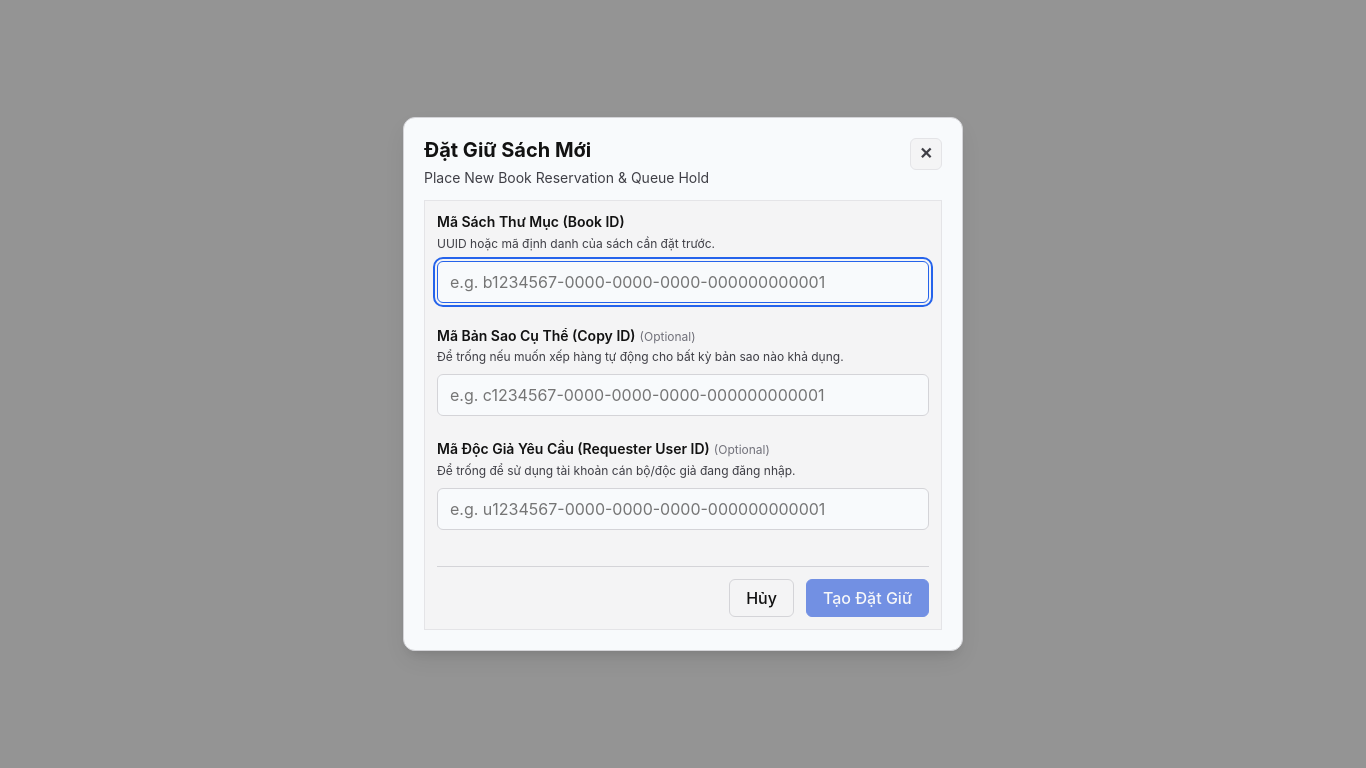
it: CreateReservationModal Component (M-05) › displays inline error alert if reservations.create rejects
This screenshot has width=1366, height=768.
Type "b-full" into the field labelled "Mã Sách Thư Mục (Book ID)".
click(683, 282); type("b-full")  # box [437,261,929,303]
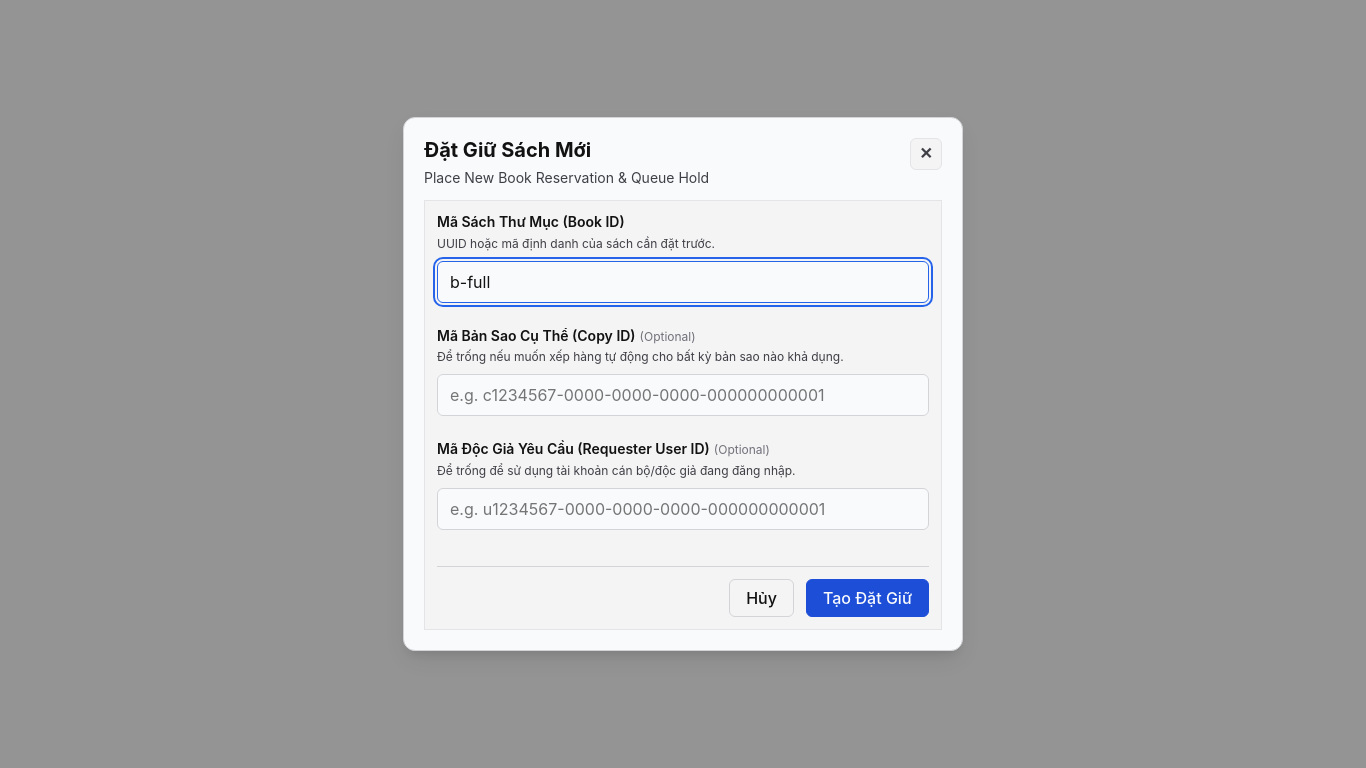
Click the button "Tạo Đặt Giữ".
click(867, 598)  # box [806,579,929,617]
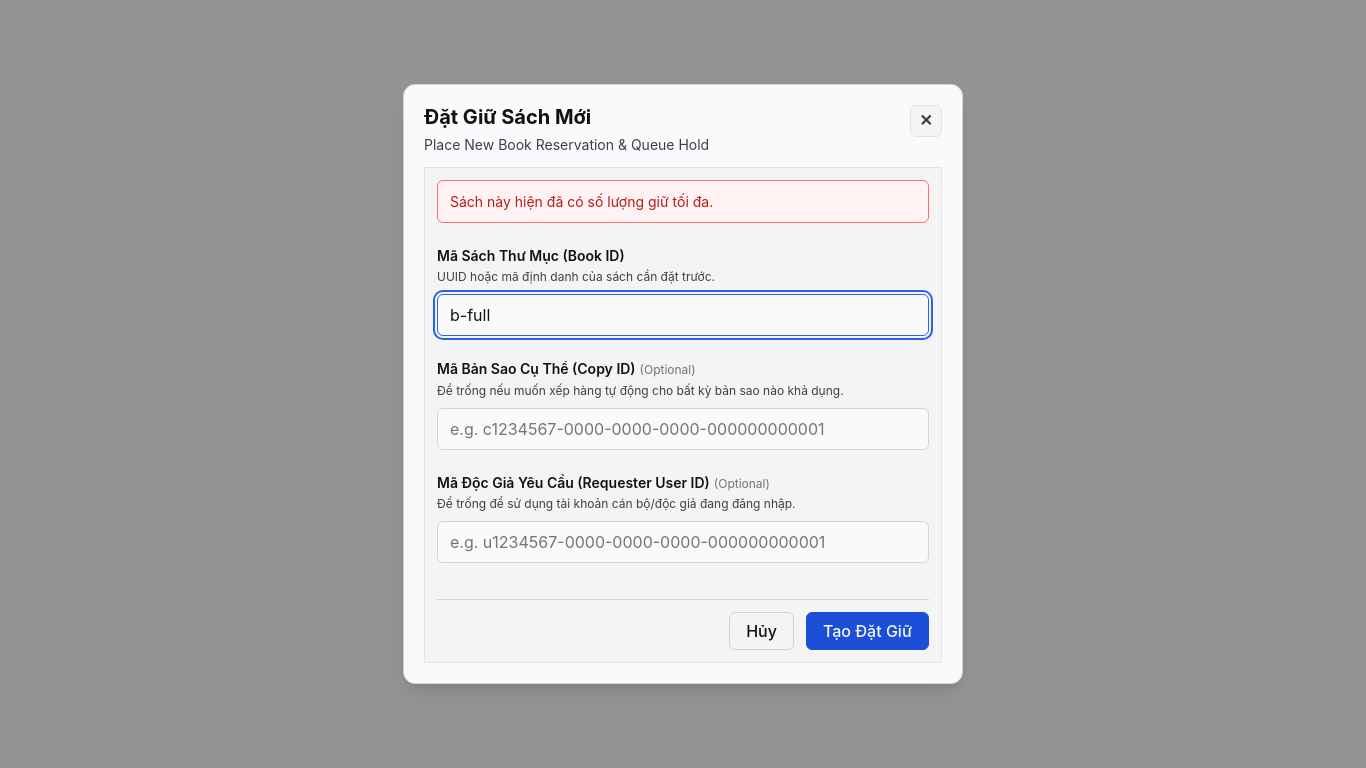
Expected: the message shows "số lượng giữ tối đa", [450,193,713,210]
